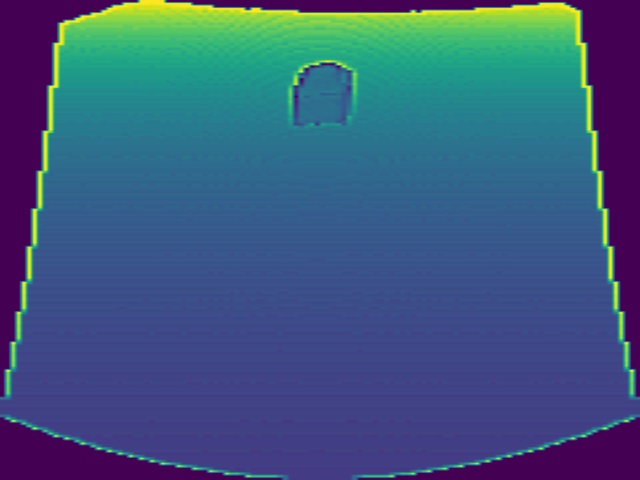car_0027: (284, 60, 359, 130)
